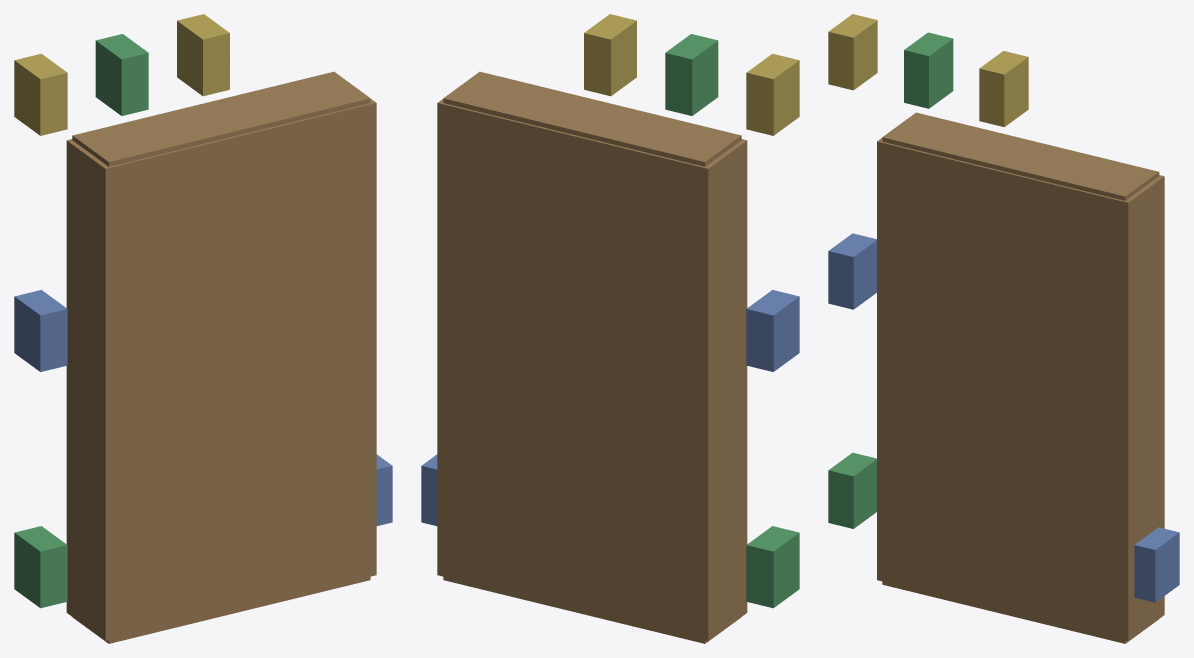
File: bookshelf_1.glb
The picture shows the model from 3 angles, left to right: view 1: azimuth 30°, elevation 25°; view 2: azimuth 150°, elevation 25°; view 3: azimuth 330°, elevation 25°; orthographic projection. The views are drawn at different scales.
Parts seen in each view (by area): view 1: bookshelf_1_frame, bookshelf_1_shelf.002, bookshelf_1_book, bookshelf_1_book.009, bookshelf_1_book.005, bookshelf_1_book.010, bookshelf_1_book.011, bookshelf_1_shelf, bookshelf_1_book.004; view 2: bookshelf_1_frame, bookshelf_1_shelf.002, bookshelf_1_book, bookshelf_1_book.009, bookshelf_1_book.005, bookshelf_1_book.010, bookshelf_1_book.011, bookshelf_1_shelf, bookshelf_1_book.004; view 3: bookshelf_1_frame, bookshelf_1_shelf.002, bookshelf_1_book.011, bookshelf_1_book.009, bookshelf_1_book.010, bookshelf_1_book, bookshelf_1_book.005, bookshelf_1_book.004, bookshelf_1_shelf.
Boxes of the visible parts, x1,y1,x2,y2 form: bookshelf_1_frame: (66, 99, 376, 641); bookshelf_1_shelf.002: (72, 71, 370, 166); bookshelf_1_book: (14, 526, 67, 608); bookshelf_1_book.009: (14, 53, 67, 135); bookshelf_1_book.005: (14, 290, 67, 371); bookshelf_1_book.010: (95, 34, 148, 115); bookshelf_1_book.011: (177, 14, 229, 96); bookshelf_1_shelf: (72, 576, 370, 643); bookshelf_1_book.004: (376, 454, 392, 525); bookshelf_1_frame: (437, 99, 747, 641); bookshelf_1_shelf.002: (443, 71, 741, 166); bookshelf_1_book: (746, 526, 799, 608); bookshelf_1_book.009: (746, 53, 799, 135); bookshelf_1_book.005: (746, 290, 799, 371); bookshelf_1_book.010: (665, 34, 718, 115); bookshelf_1_book.011: (584, 14, 636, 96); bookshelf_1_shelf: (443, 576, 741, 643); bookshelf_1_book.004: (421, 454, 437, 525); bookshelf_1_frame: (877, 138, 1164, 641); bookshelf_1_shelf.002: (882, 112, 1159, 200); bookshelf_1_book.011: (979, 51, 1028, 127); bookshelf_1_book.009: (828, 14, 877, 90); bookshelf_1_book.010: (904, 32, 953, 108); bookshelf_1_book: (828, 452, 876, 528); bookshelf_1_book.005: (828, 233, 876, 309); bookshelf_1_book.004: (1134, 527, 1179, 602); bookshelf_1_shelf: (882, 581, 1158, 643).
Size of the model in its own units: 0.78 by 1.22 by 0.15.
